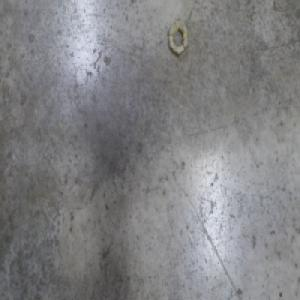Nut: (168, 17, 189, 58)
